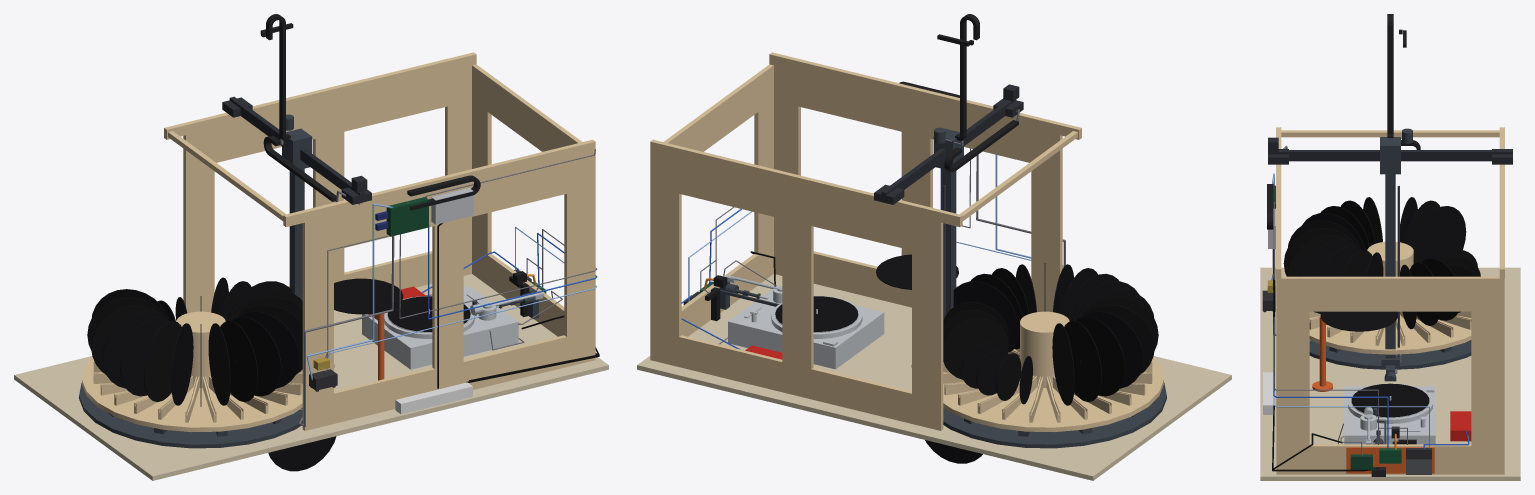
Rendered from parts.glb.
The picture shows the model from 3 angles, left to right: view 1: azimuth 30°, elevation 25°; view 2: azimuth 150°, elevation 25°; view 3: azimuth 270°, elevation 25°; orthographic projection. The views are drawn at different scales.
Visible parts, largest first — view 1: frame, bench, carousel_disc, plinth, carousel_base, x_carriage, record_slot18, record_slot14, record_slot19, record_slot13, record_ring_12, record_slot12 (+23 smaller); view 2: frame, bench, carousel_disc, plinth, carousel_base, x_carriage, record_slot3, record_slot10, record_slot11, z_carriage, record_slot12, record_slot9 (+16 smaller); view 3: frame, bench, carousel_disc, plinth, x_carriage, record_slot9, carousel_base, z_carriage, record_platter_12, record_ring_12, pi_plate, z_chain (+34 smaller).
Part boxes in pixels (x1,y1,x2,y2): frame: (164,52,595,430); bench: (14,274,608,480); carousel_disc: (82,311,302,432); plinth: (362,286,518,369); carousel_base: (79,383,302,448); x_carriage: (222,96,371,204); record_slot18: (220,321,258,401); record_slot14: (144,321,181,401); record_slot19: (232,317,281,396); record_slot13: (120,317,169,396); record_ring_12: (334,278,403,314); record_slot12: (102,311,163,388); frame: (650,52,1081,430); bench: (637,274,1231,480); carousel_disc: (943,311,1163,432); plinth: (728,286,884,369); carousel_base: (943,383,1166,448); x_carriage: (874,84,1023,204); record_slot3: (943,317,1008,379); record_slot10: (1064,321,1101,401); record_slot11: (1076,317,1125,396); z_carriage: (911,182,956,367); record_slot12: (1082,311,1143,388); record_slot9: (1052,323,1074,405); frame: (1276,127,1504,474); bench: (1260,267,1520,480); carousel_disc: (1309,241,1482,354); plinth: (1344,383,1435,444); x_carriage: (1268,137,1512,164); record_slot9: (1411,206,1466,263); carousel_base: (1309,340,1471,369); z_carriage: (1381,185,1399,381); record_platter_12: (1351,383,1429,417); record_ring_12: (1320,311,1397,331); pi_plate: (1346,447,1434,473); z_chain: (1387,14,1406,137).
Bounding box in the file's own units: 1914 × 1815 × 1000.
